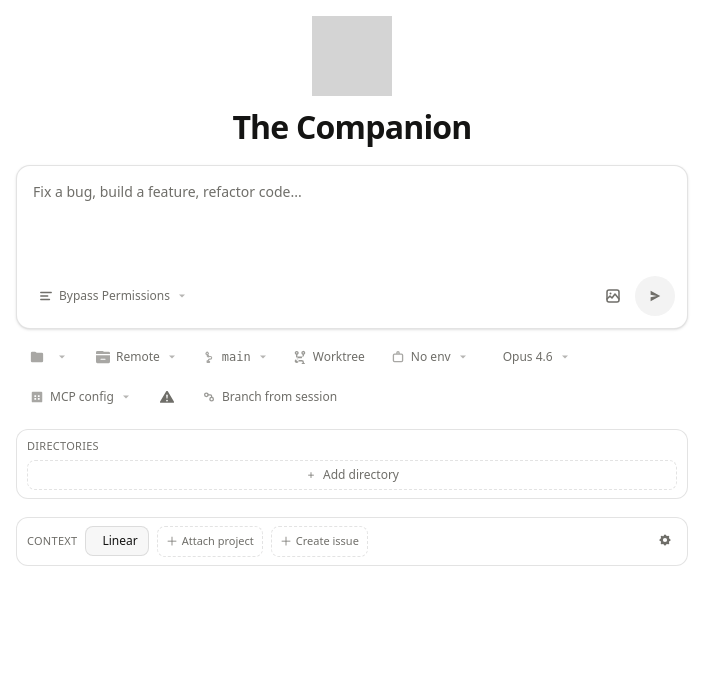
Scenario: HomePage › opens and selects from the mode dropdown
Expected: the text box with placeholder "Fix a bug, build a feature, refactor code..." is shown, [17, 166, 687, 270]
Note: Default mode for claude backend is "Bypass Permissions"
Click the button "Bypass Permissions". click: (114, 296)
box: [29, 282, 198, 310]
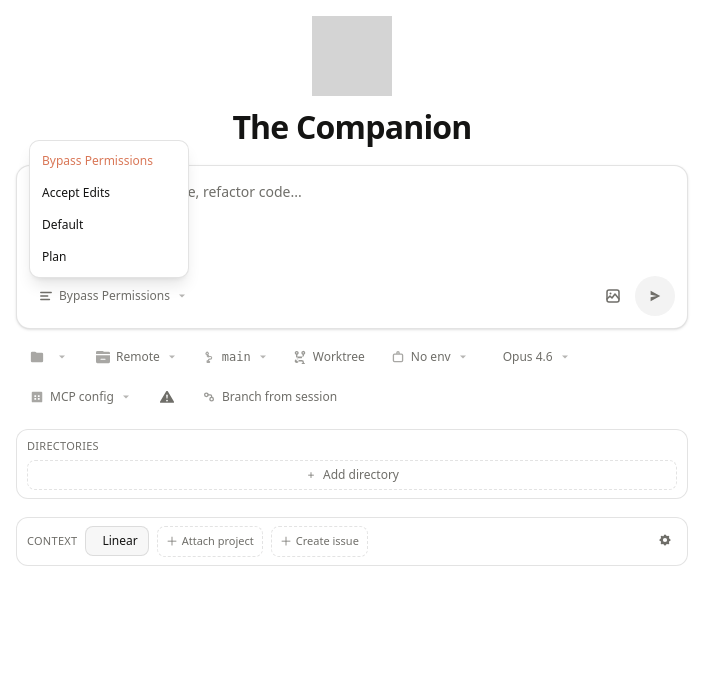
Note: Select Plan mode
Click the button "Plan". click: (109, 257)
box: [30, 241, 188, 273]
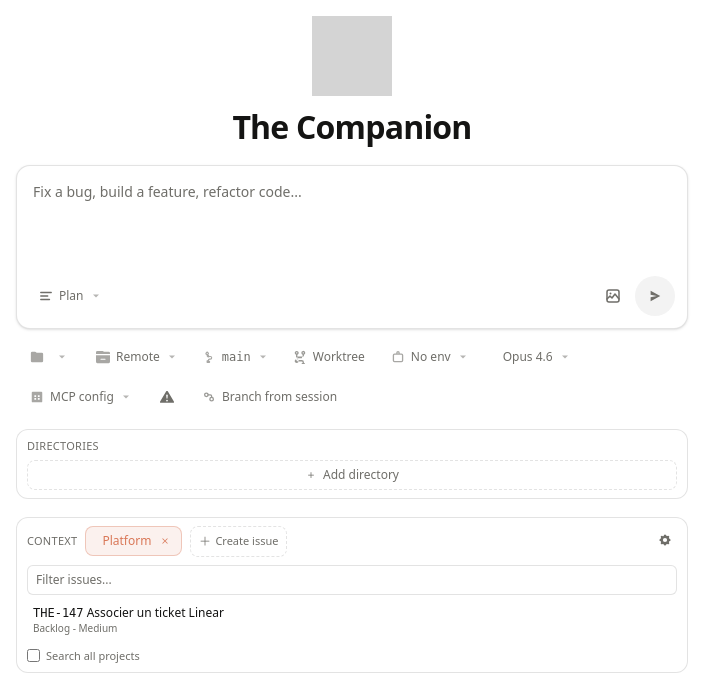
Result: the button "Plan" is shown at [29, 282, 112, 310]
